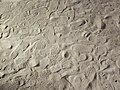human_foot_print: (9, 42, 30, 58), (70, 21, 90, 26)
